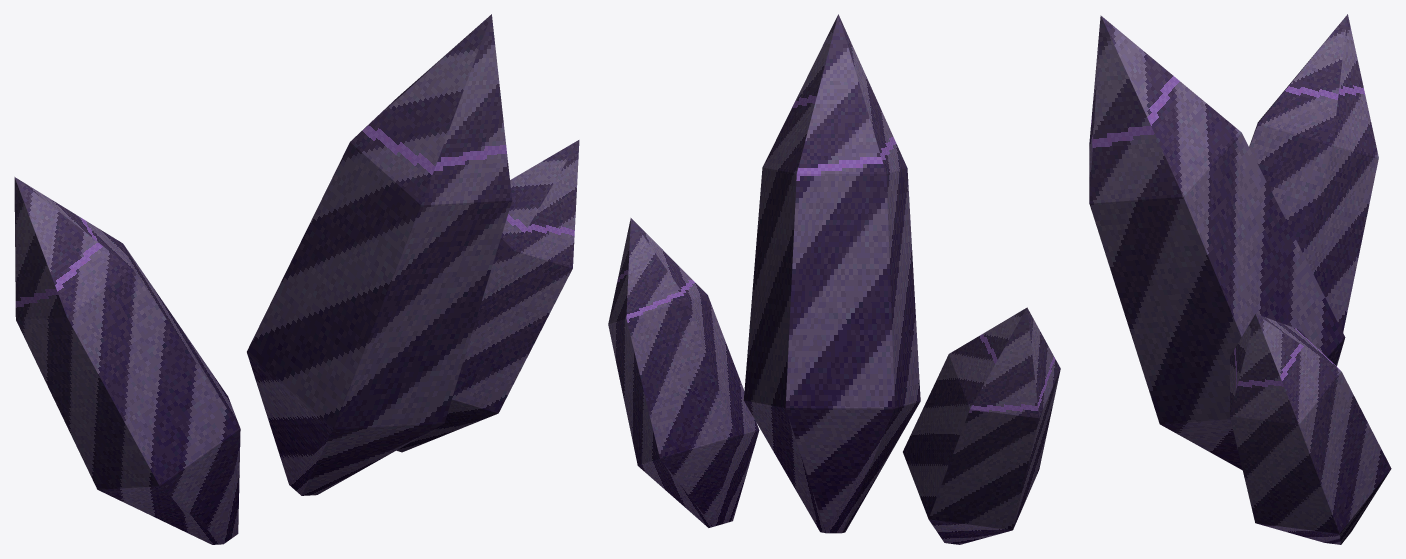
Rendered from estilhaco_de_obsidiana.glb.
3 views of the same model, side by side, from view 1: azimuth 30°, elevation 25°; view 2: azimuth 150°, elevation 25°; view 3: azimuth 270°, elevation 25° (orthographic). The views are drawn at different scales.
Parts seen in each view (by area): view 1: estilhaco_de_obsidiana; view 2: estilhaco_de_obsidiana; view 3: estilhaco_de_obsidiana.
Part boxes in pixels (x1,y1,x2,y2): estilhaco_de_obsidiana: (14,14,579,544); estilhaco_de_obsidiana: (608,14,1060,544); estilhaco_de_obsidiana: (1089,14,1391,544).
Bounding box in the file's own units: 0.7334 × 0.7009 × 0.3718.
1 material, 1 textured.
